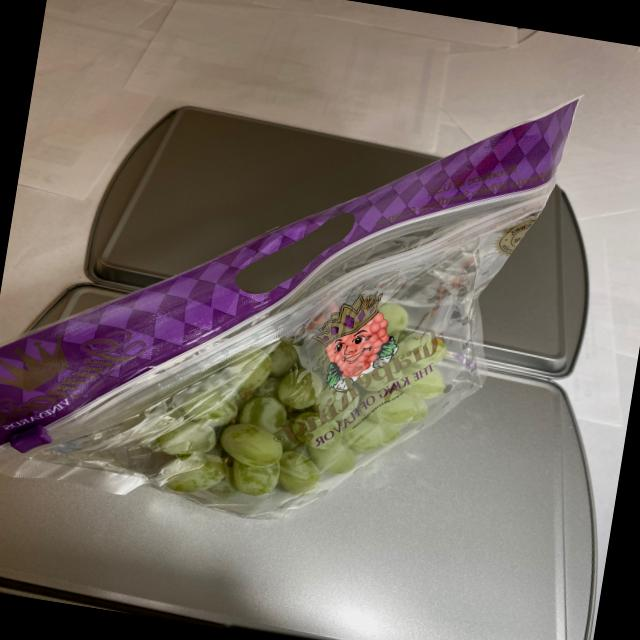grapes: (129, 253, 460, 550)
